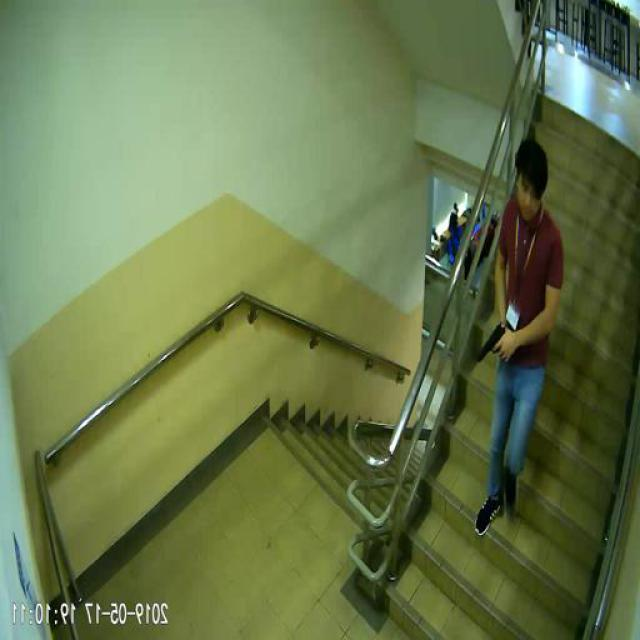Gun: (479, 320, 509, 359)
